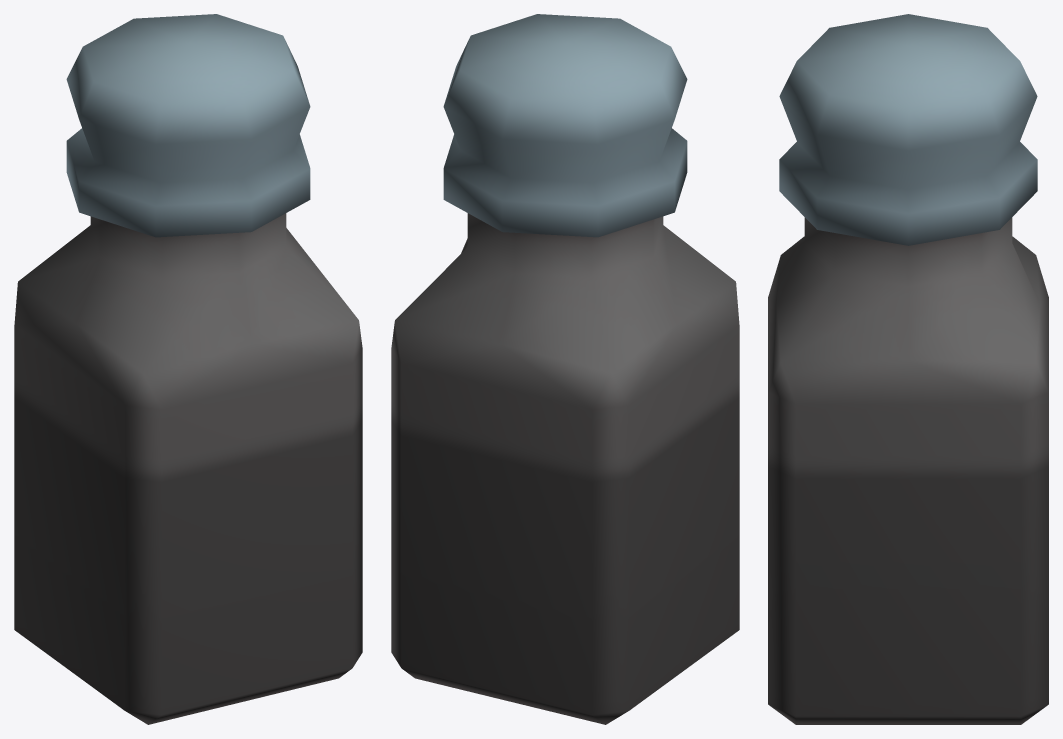
File: pepper_01.fbx
3 renders of one model, left to right at view 1: azimuth 30°, elevation 25°; view 2: azimuth 150°, elevation 25°; view 3: azimuth 270°, elevation 25°, orthographic. The views are drawn at different scales.
Parts seen in each view (by area): view 1: pepper_01_ready; view 2: pepper_01_ready; view 3: pepper_01_ready.
Part boxes in pixels (left/top/right/bottom): pepper_01_ready: left=14, top=14, right=362, bottom=724; pepper_01_ready: left=391, top=14, right=739, bottom=724; pepper_01_ready: left=768, top=14, right=1048, bottom=724.
Bounding box in the file's own units: 8.92 × 22.13 × 8.92.
